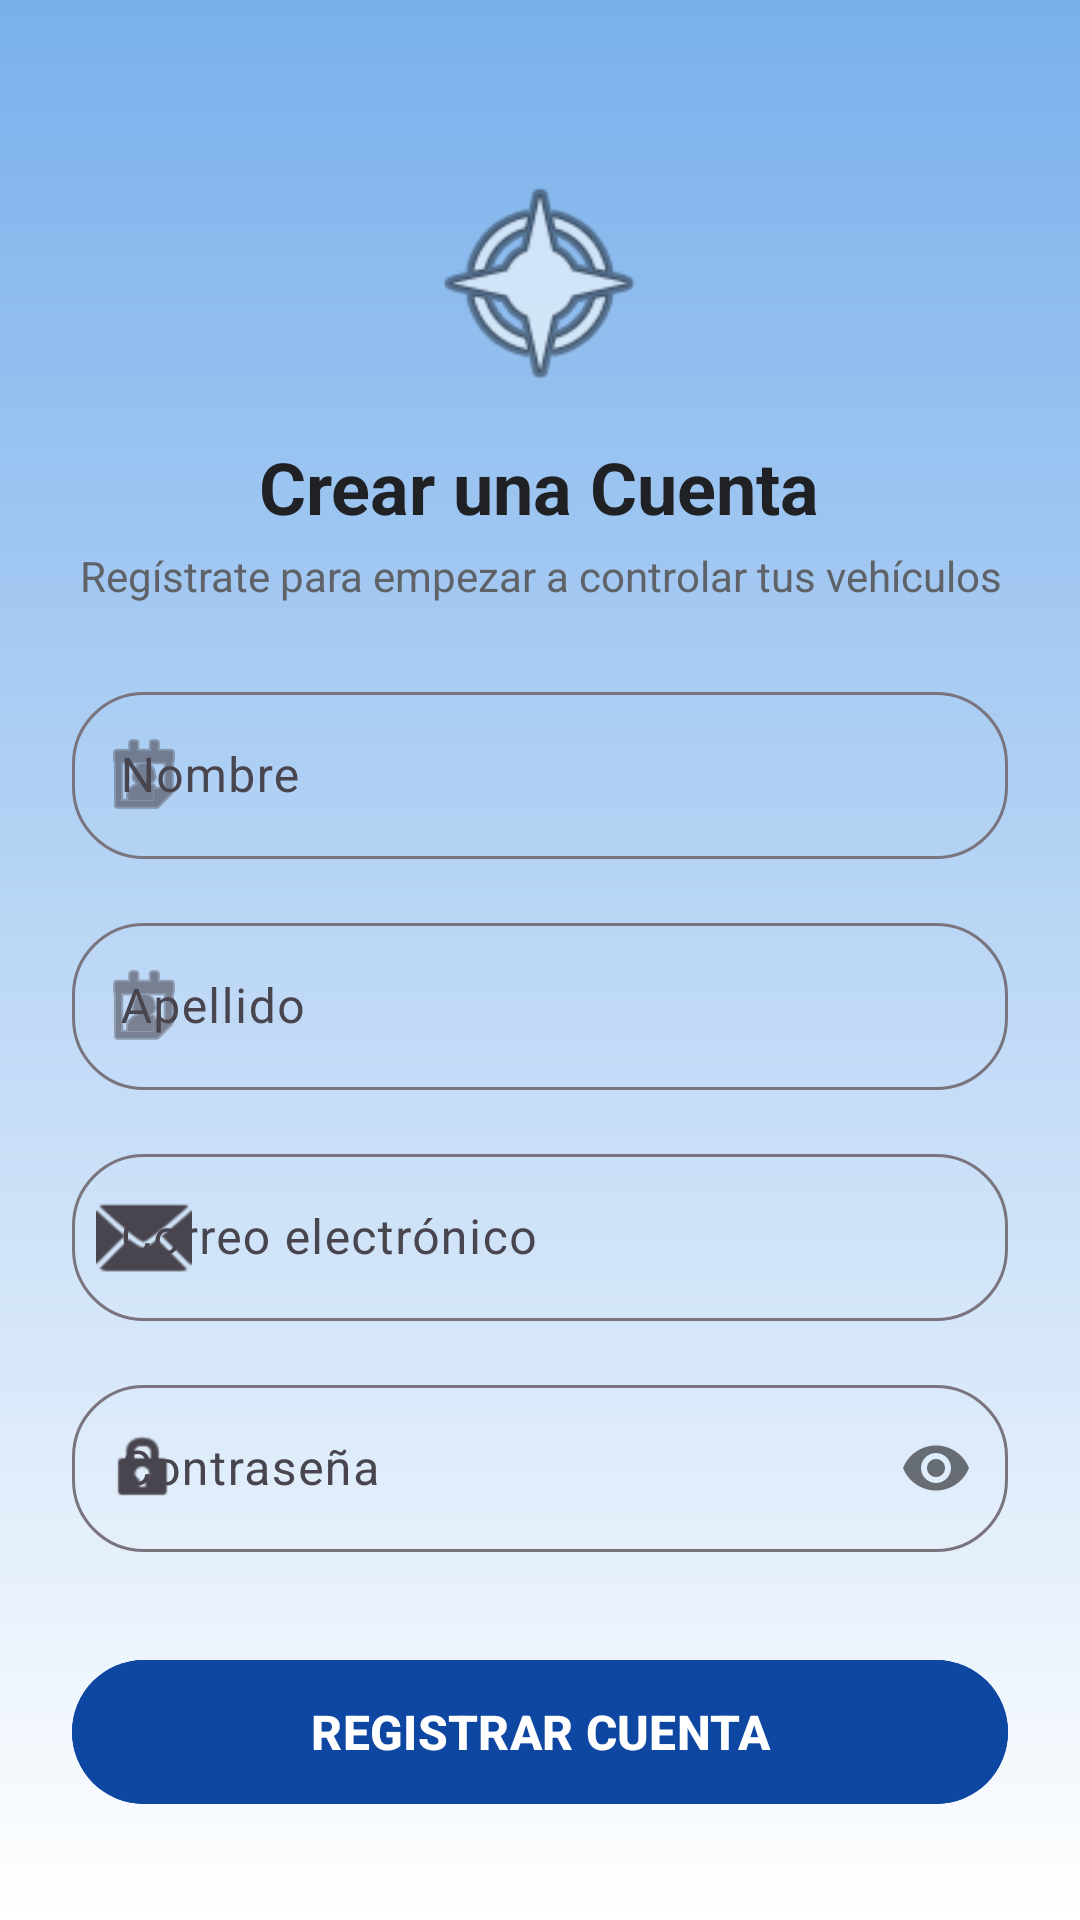

Icons on this 1080px×1920px Android screen, each with the point to tap as [x,y]:
compass: [539,283]
